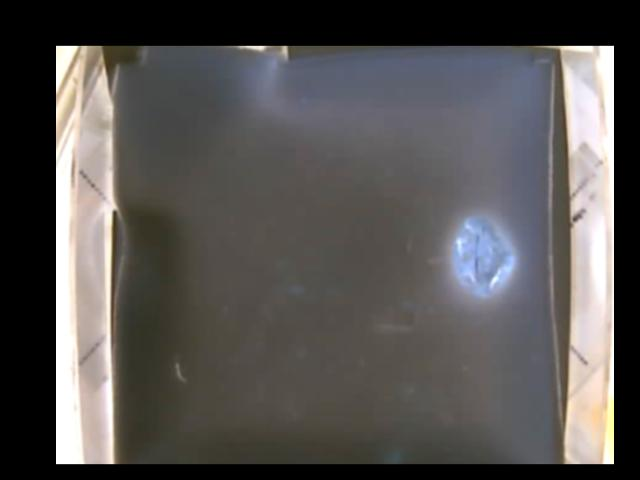Pebble: (452, 213, 518, 297)
